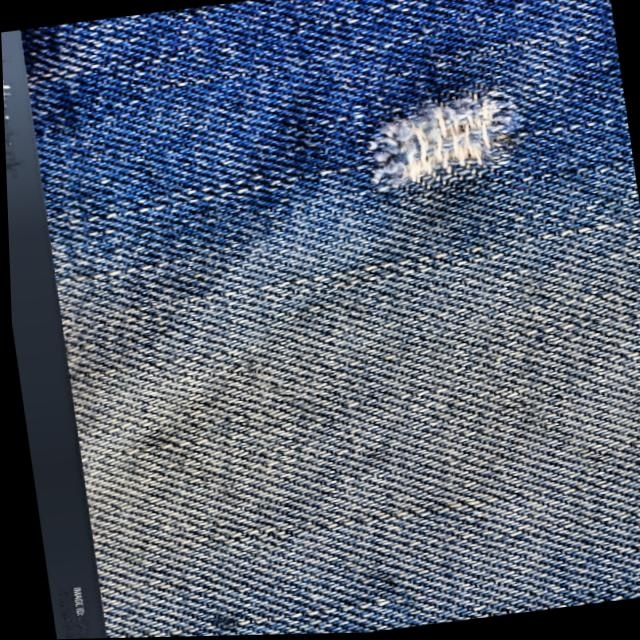Hole: (323, 56, 559, 224)
